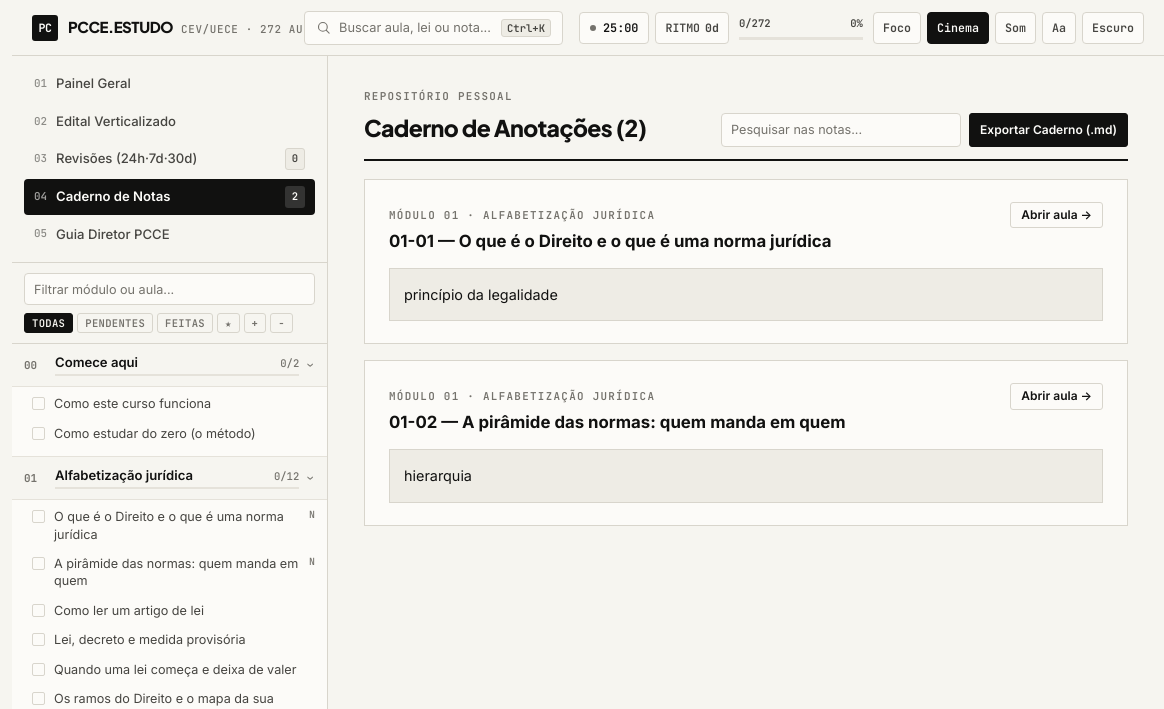
Test: Telas de estudo › busca no caderno de anotações
Expected: the heading "Caderno de Anotações (2)" is shown, x1=364 y1=109 x2=646 y2=147
Type "legalidade" into the search field labelled "Pesquisar nas notas" at (841, 130), box x1=721 y1=113 x2=961 y2=147
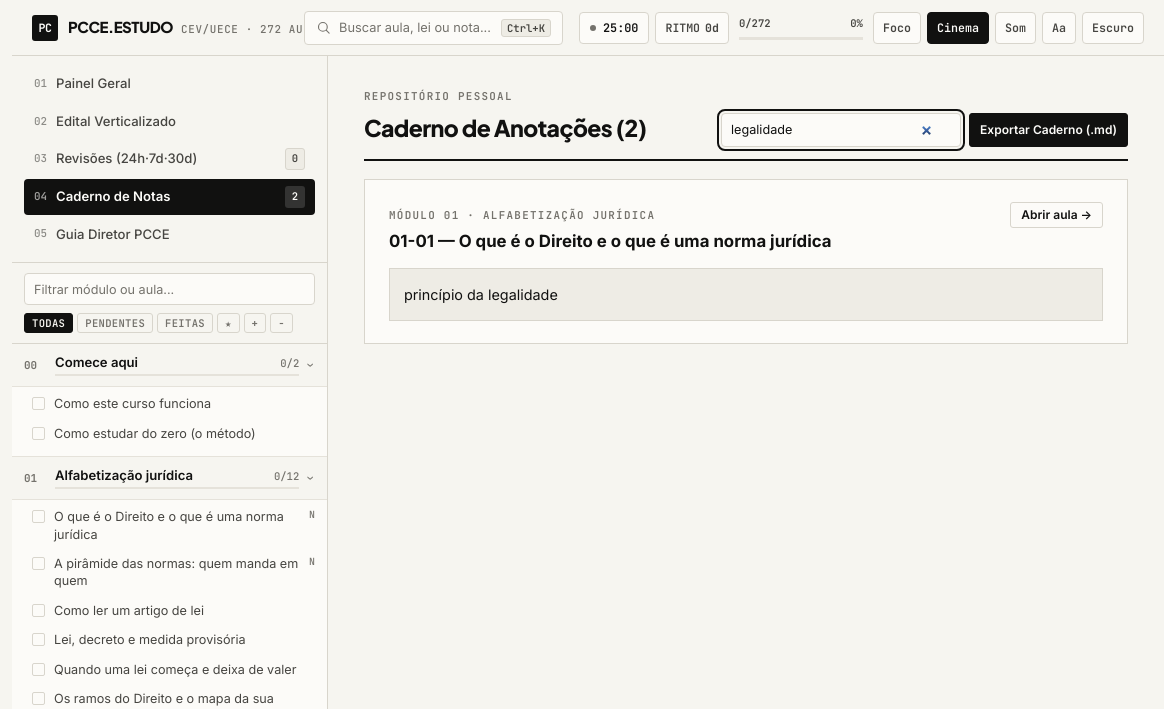
Result: the number of elements with class "notepad-card" is 1 at x1=364 y1=179 x2=1128 y2=344
